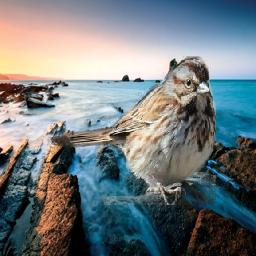Sparrow: (50, 57, 216, 206)
